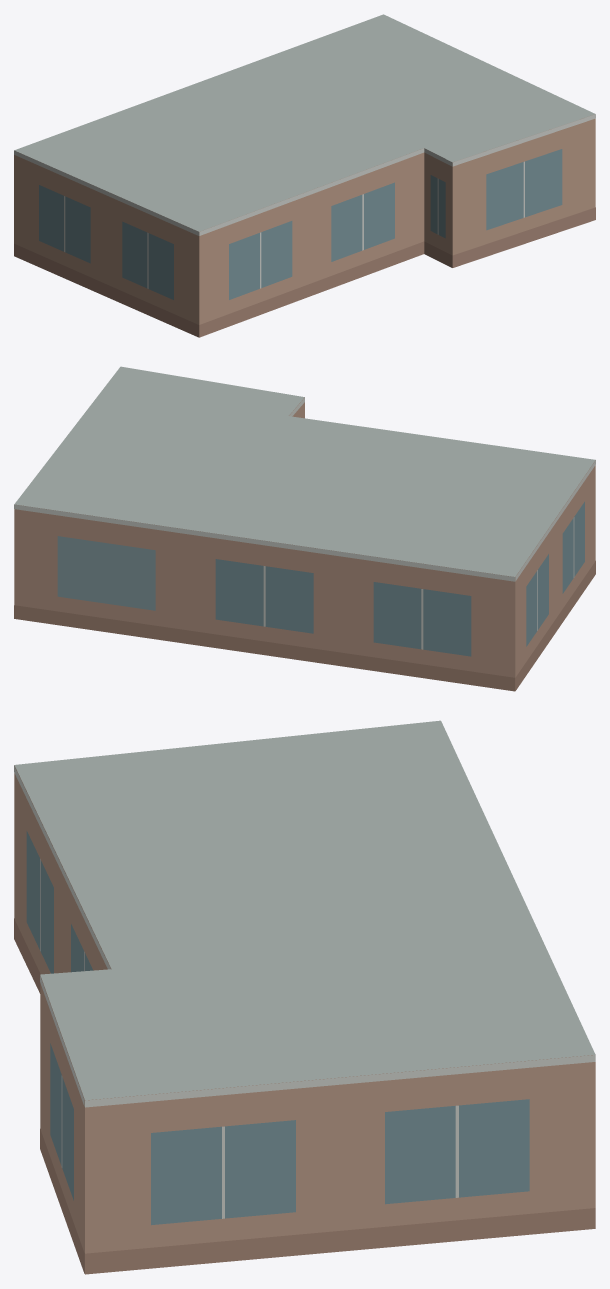
Rendered from survey-upis-32917842.glb.
3 renders of one model, top to bottom at view 1: azimuth 30°, elevation 25°; view 2: azimuth 150°, elevation 25°; view 3: azimuth 270°, elevation 25°, orthographic. The views are drawn at different scales.
Parts seen in each view (by area): view 1: survey-upis-32917842.tmp; view 2: survey-upis-32917842.tmp; view 3: survey-upis-32917842.tmp.
Boxes of the visible parts, x1,y1,x2,y2 form: survey-upis-32917842.tmp: (14,14,595,337); survey-upis-32917842.tmp: (14,366,595,691); survey-upis-32917842.tmp: (14,720,595,1274).
Bounding box in the file's own units: 14.29 × 3.05 × 9.25.
